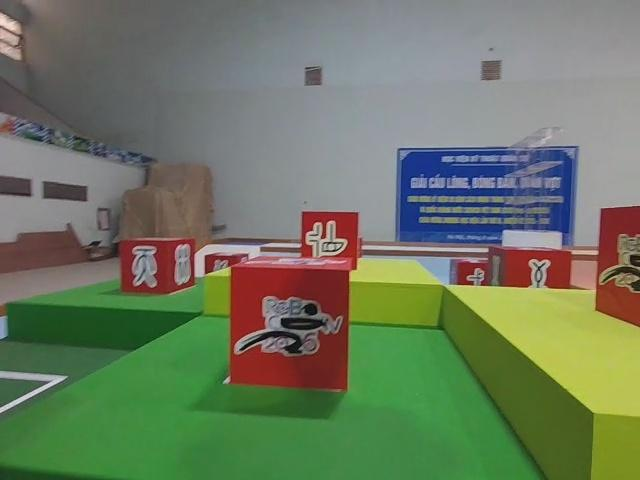R1: (229, 258, 348, 395), (597, 209, 640, 341)
R2 Fake: (119, 238, 196, 296)
R2 Real: (301, 212, 358, 273)
